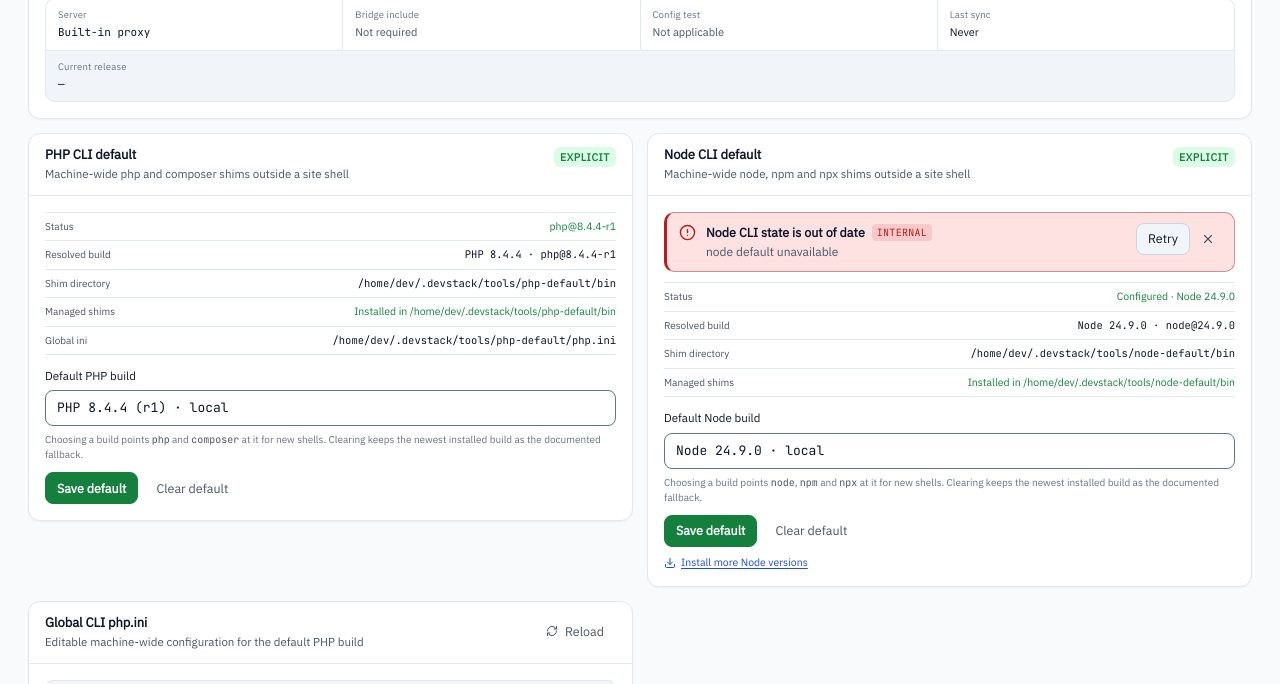
Test case: Settings tooling › clears a stale node default error after a successful save
The image size is (1280, 684).
(page scrolled)
Expected: the heading "Node CLI default" is shown, [664, 146, 761, 163]
Expected: the text "Node CLI state is out of date" is shown, [706, 224, 865, 240]
Select "Node 22.11.0 · local" in the dropdown labelled "Default Node build" at (950, 451), box [664, 433, 1235, 469]
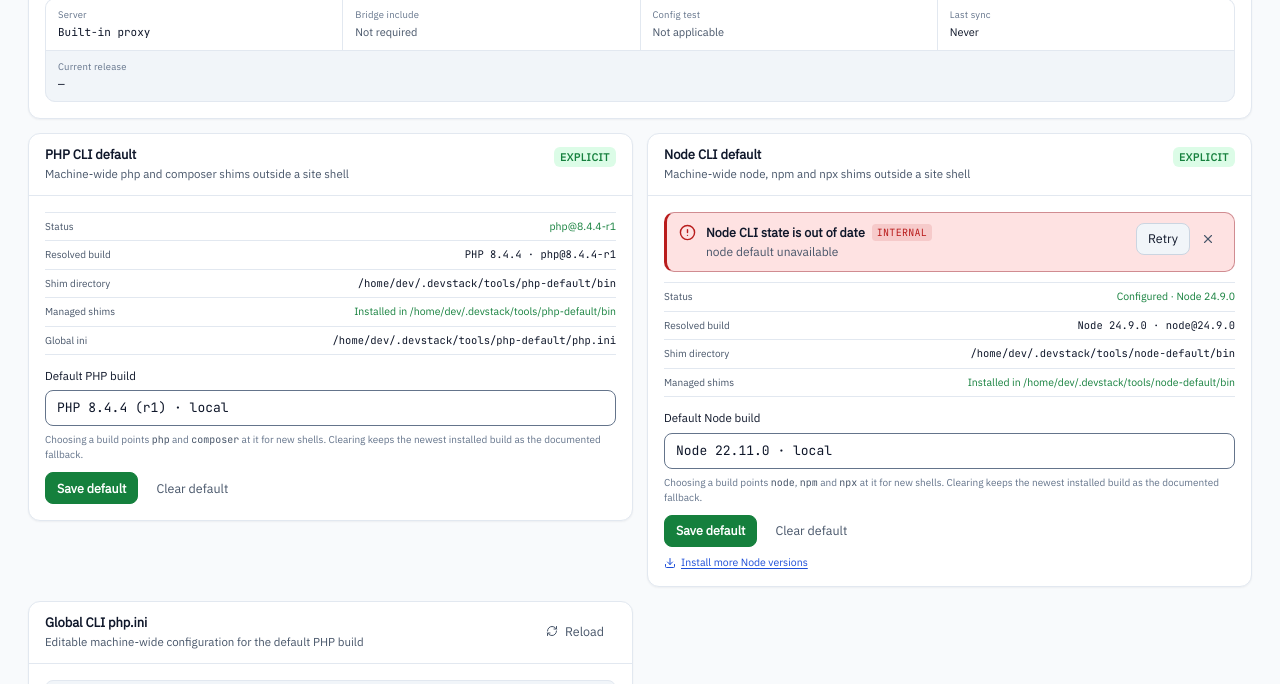
Click the button with aria-label "Save Node default" at (711, 531), box [664, 515, 757, 547]
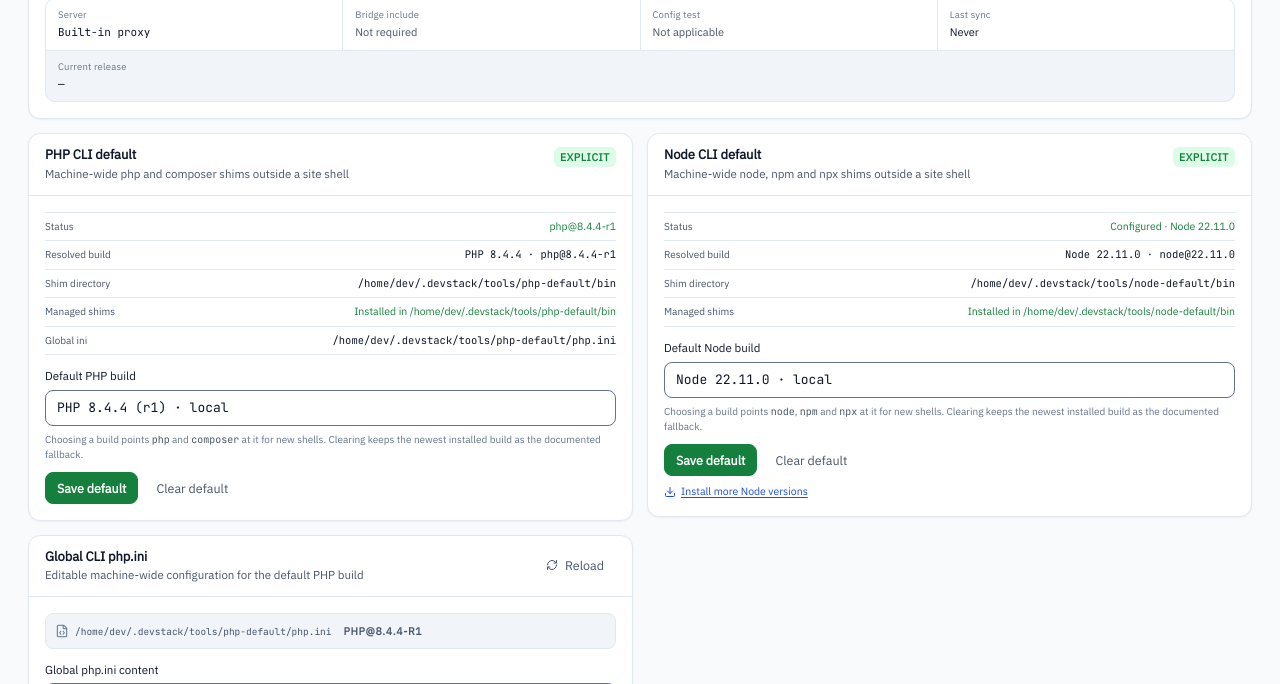
Expected: the text "Node CLI state is out of date" is gone
